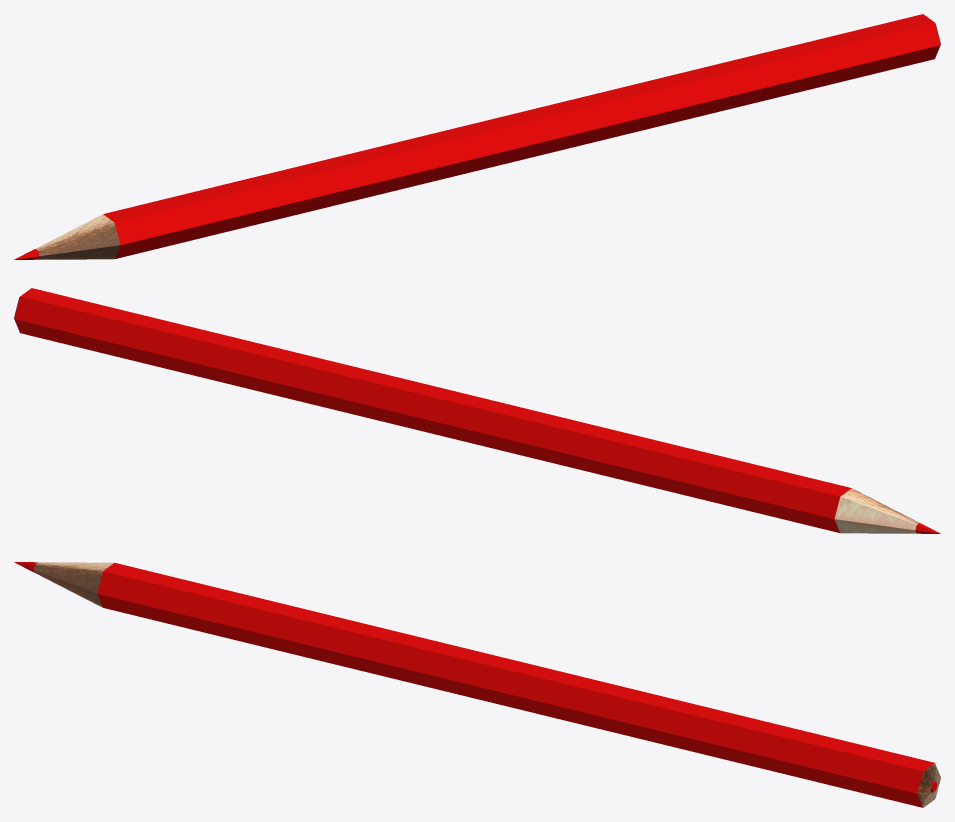
The model's file is Pencil_Red.fbx.
3 renders of one model, top to bottom at view 1: azimuth 30°, elevation 25°; view 2: azimuth 150°, elevation 25°; view 3: azimuth 330°, elevation 25°, orthographic.
Visible parts, largest first — view 1: Cylinder.004; view 2: Cylinder.004; view 3: Cylinder.004.
Part boxes in pixels (x1,y1,x2,y2): Cylinder.004: [14, 14, 940, 259]; Cylinder.004: [14, 288, 940, 533]; Cylinder.004: [14, 562, 940, 807].
Bounding box in the file's own units: 2482 × 94.31 × 109.
